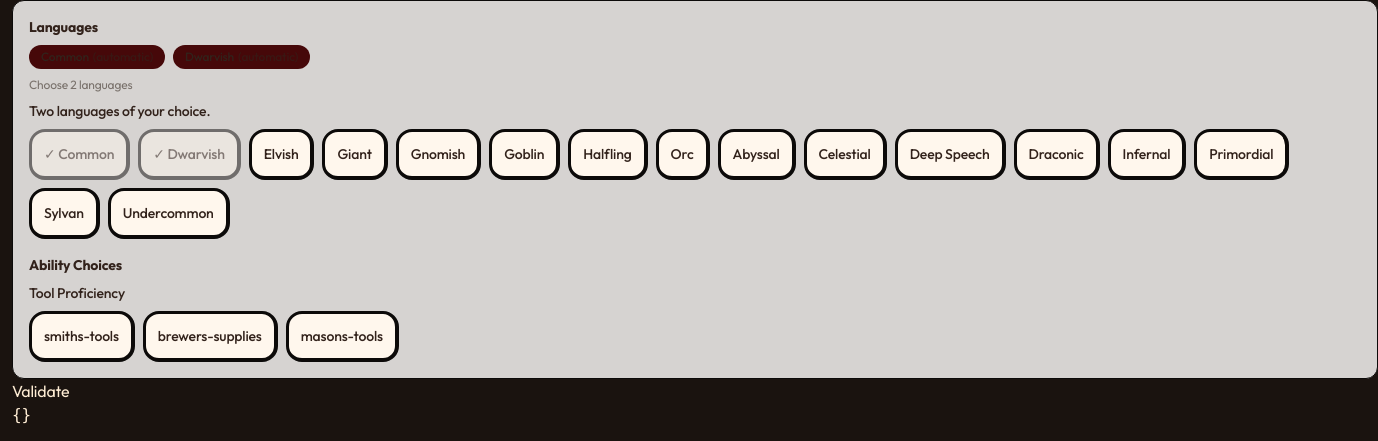
Scenario: CharacterGrantPickers › groups background language choose:2 into one selector and stores both slots
Expected: the text "Two languages of your choice." is shown, [29,102,210,120]
Click the button "Draconic" at (1057, 154), box [1014,129,1100,180]
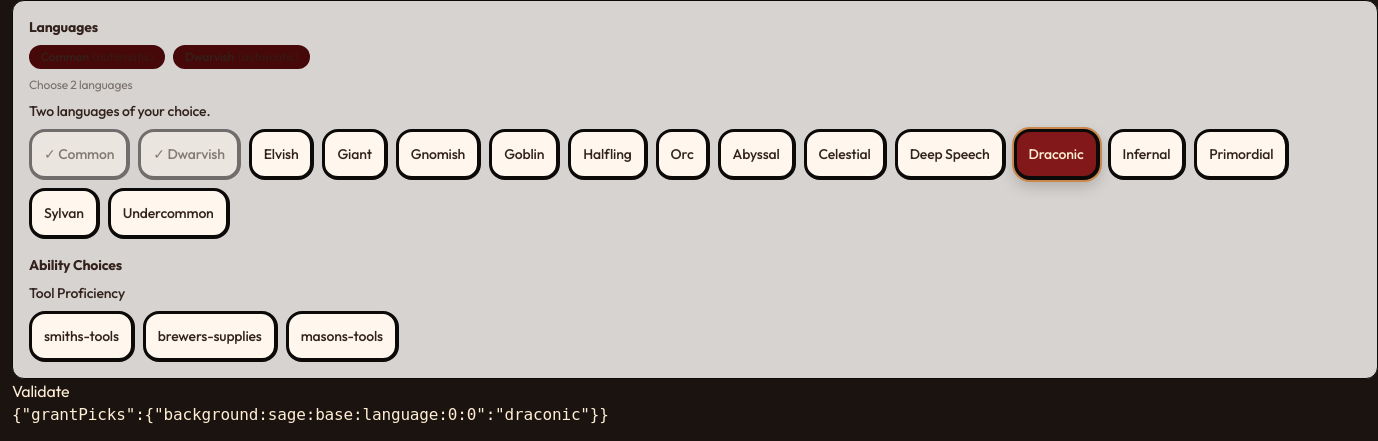
Click the button "Elvish" at (282, 154), box [249,129,314,180]
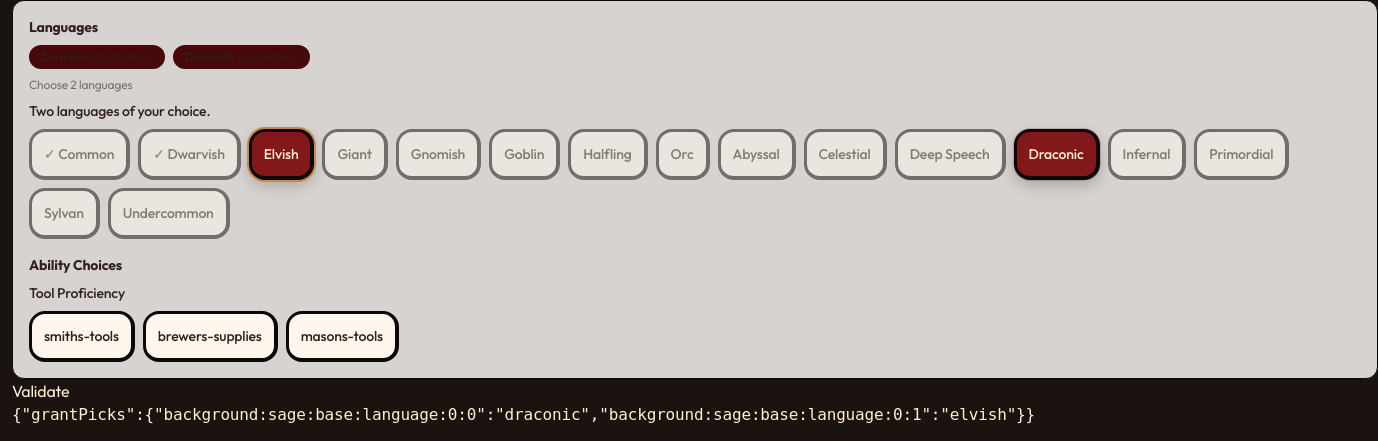
Expected: the text with test id "choices-output" shows "draconic", [12,405,1035,424]
Expected: the text with test id "choices-output" shows "background:sage:base:language:0:0", [12,405,1035,424]
Expected: the text with test id "choices-output" shows "elvish", [12,405,1035,424]
